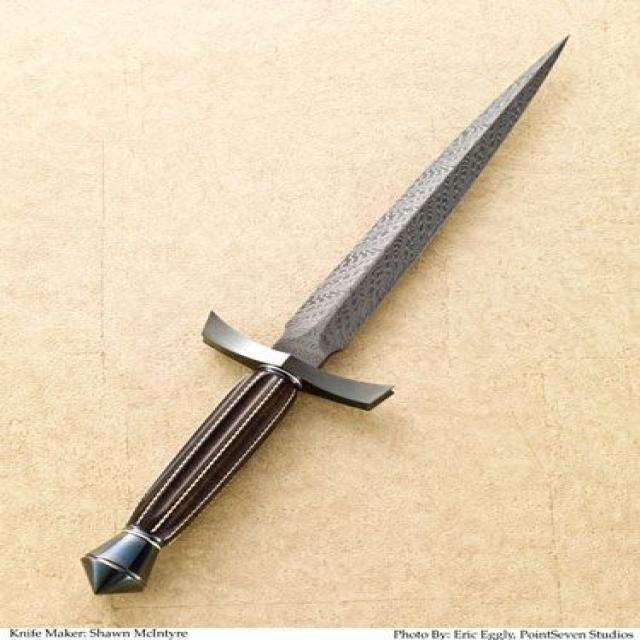short sword: (83, 29, 582, 604)
